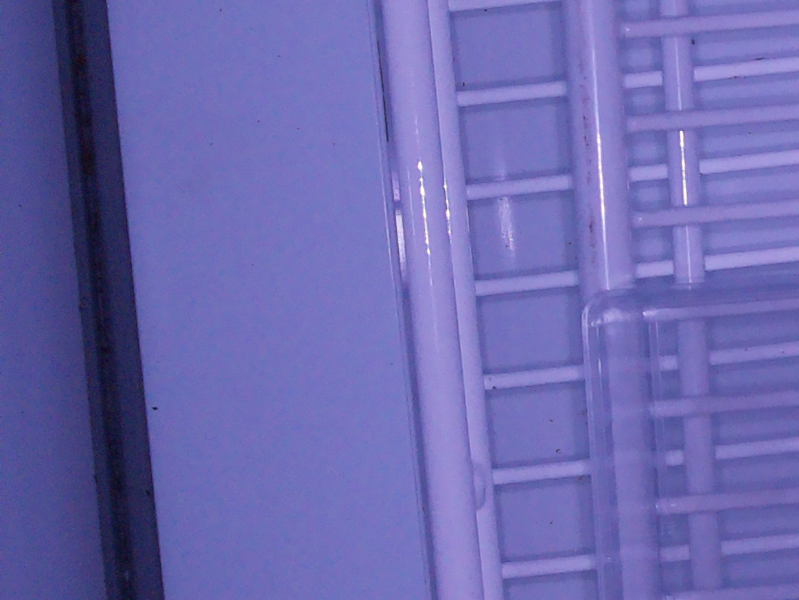plate: (580, 281, 799, 600)
